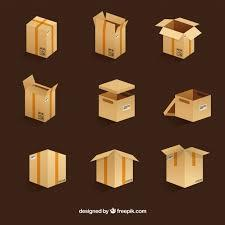Cardboard: (86, 145, 149, 197), (15, 144, 76, 197), (156, 137, 218, 188), (83, 8, 138, 61), (152, 13, 208, 65), (94, 75, 141, 136), (12, 10, 62, 61), (14, 70, 61, 121), (165, 82, 217, 128)
